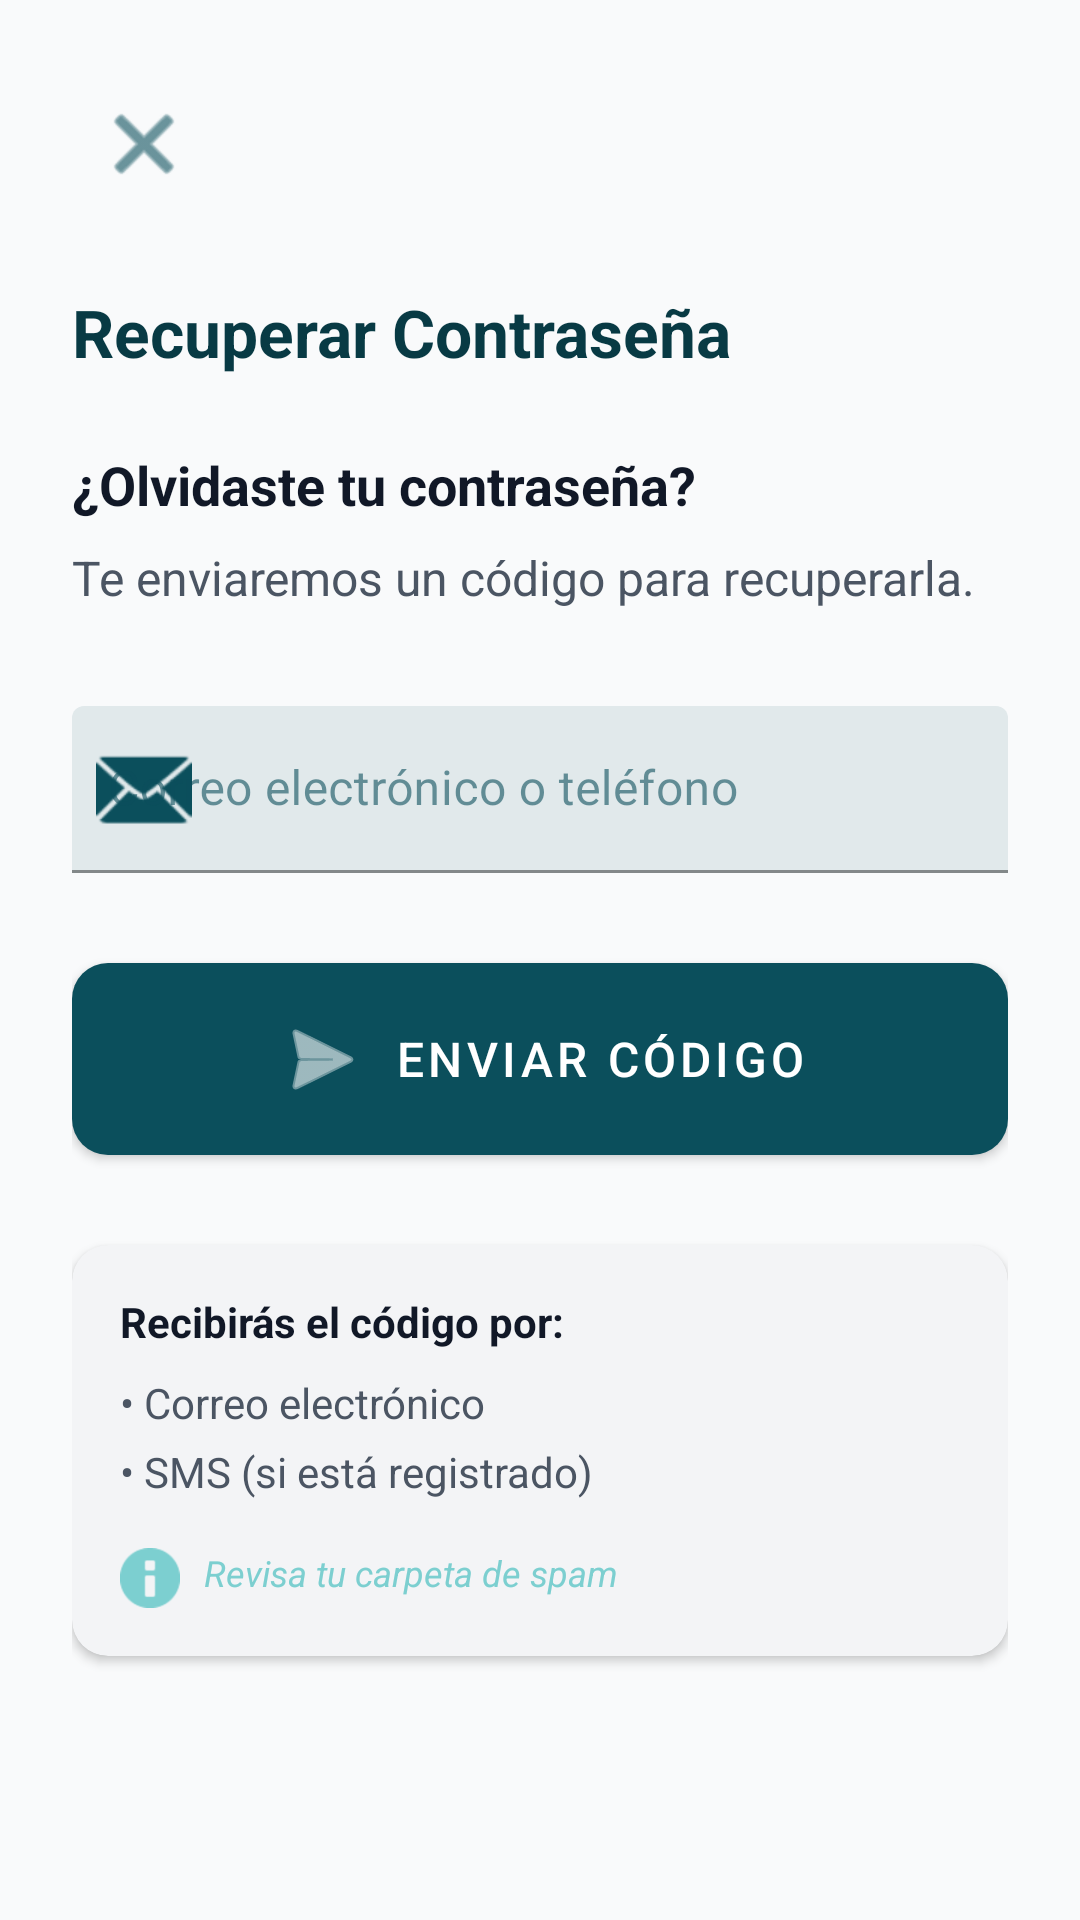

Icon bounding boxes for this 1080*1920 phone screenshot, format {"x1": x1, "y1": y1, "x2": x2, "y2": y2}:
info: {"x1": 120, "y1": 1548, "x2": 180, "y2": 1608}
Volver: {"x1": 114, "y1": 114, "x2": 174, "y2": 174}
